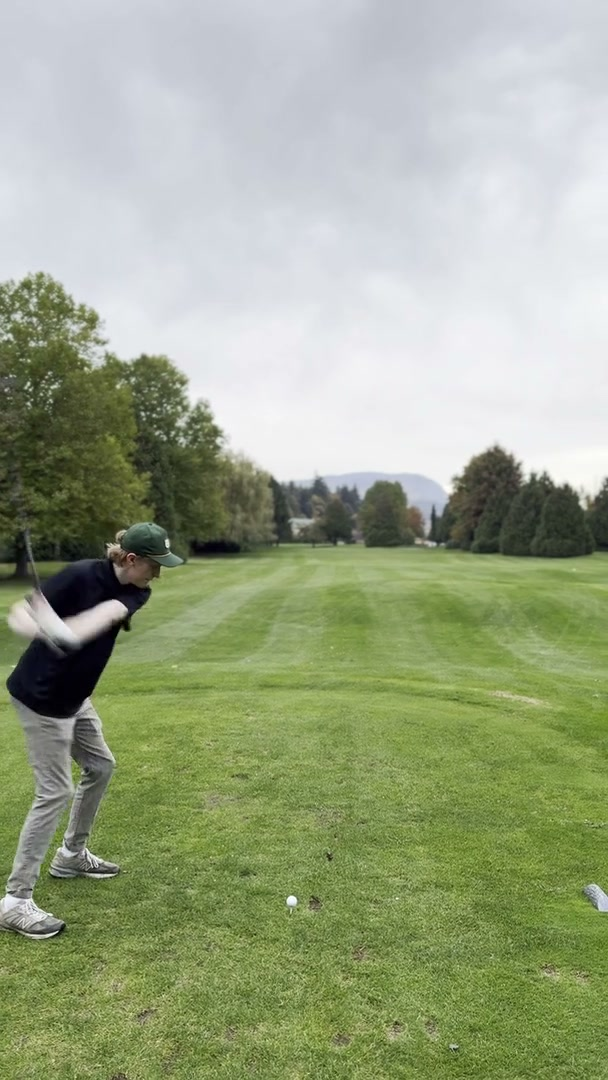Golf Ball: (287, 897, 297, 910)
